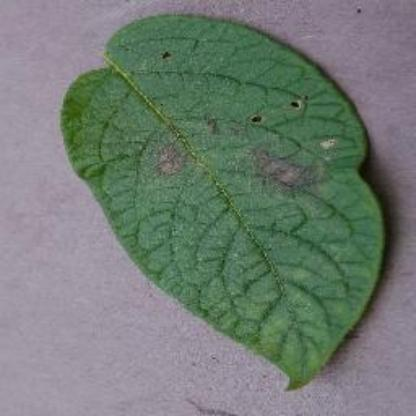Late-Blight: (53, 15, 396, 389)
